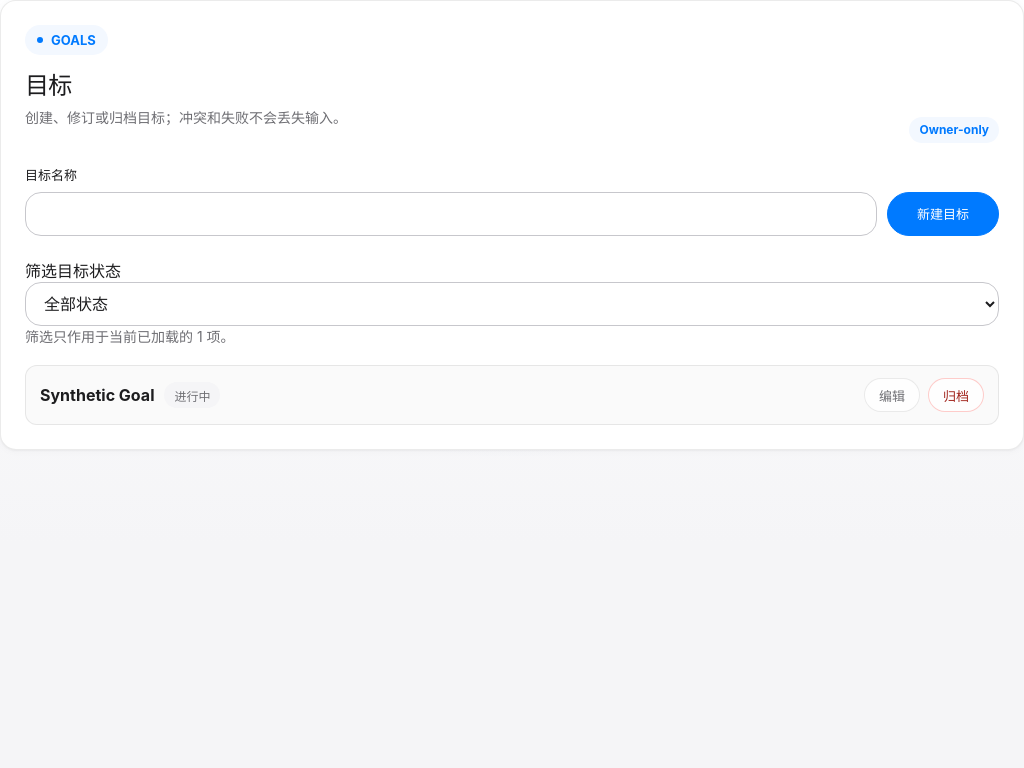
Test: Supabase Goals panel › retains edited input when a revision conflict occurs
Expected: the text "Synthetic Goal" is shown, [40,385,154,405]
Click the button with aria-label "编辑 Synthetic Goal" at (892, 395), box [864,378,920,412]
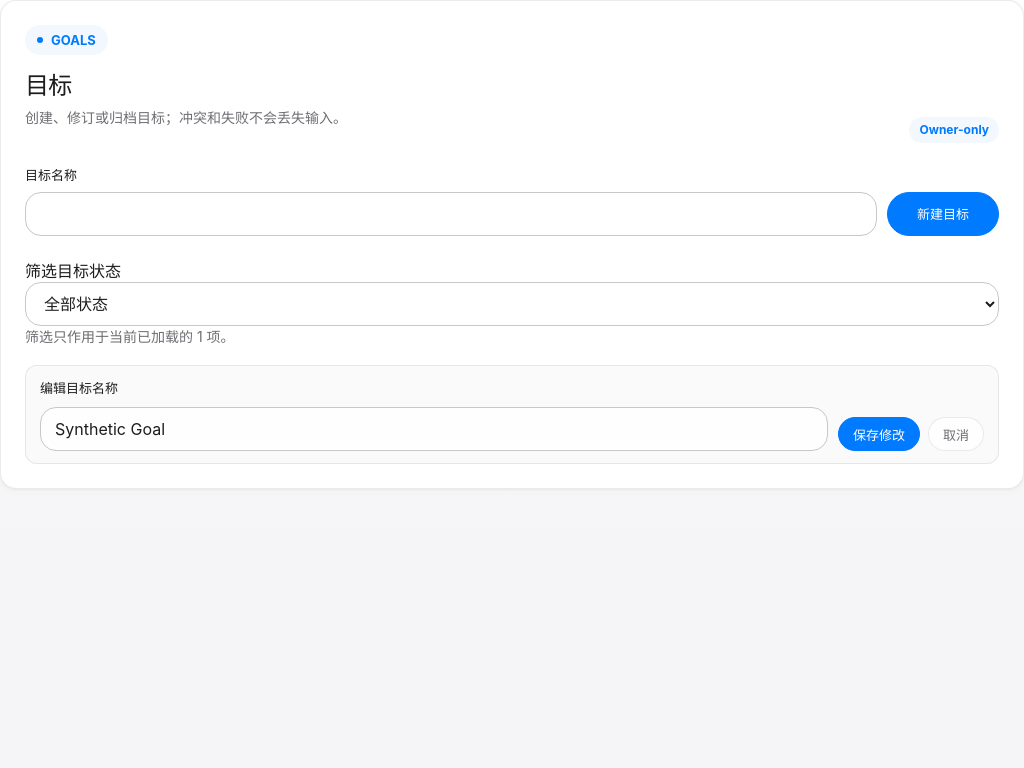
Replace the text in the field labelled "编辑目标名称" with "Conflicting Draft" at (434, 429), box [40,407,828,451]
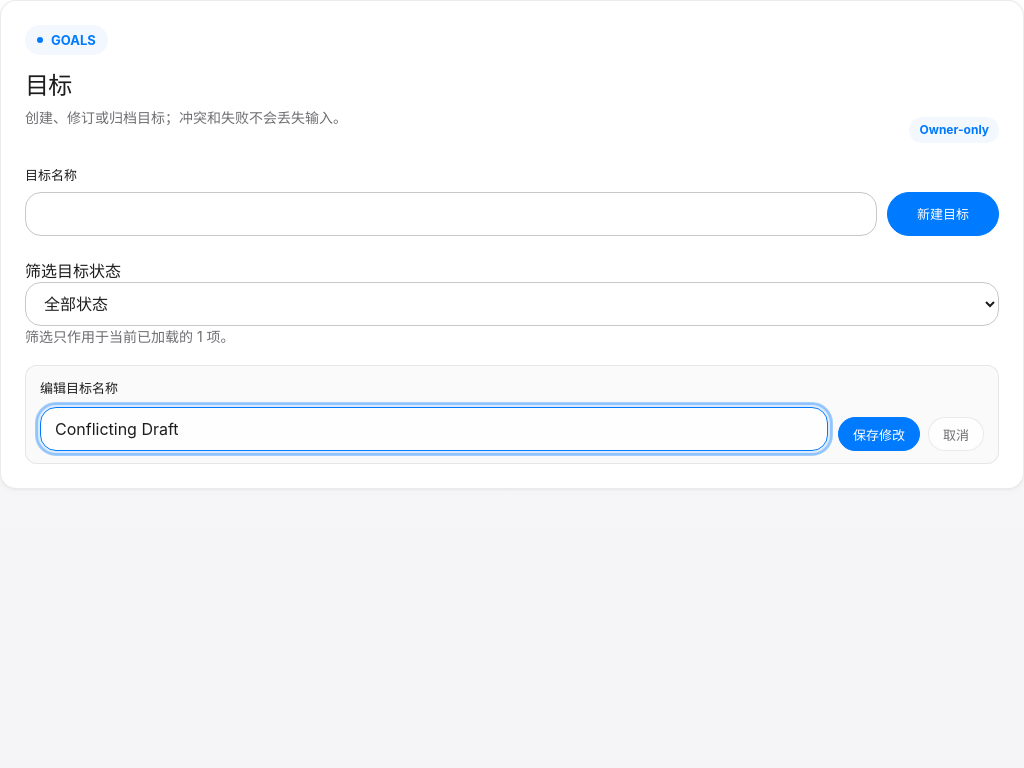
Click the button "保存修改" at (879, 434), box [838,417,920,451]
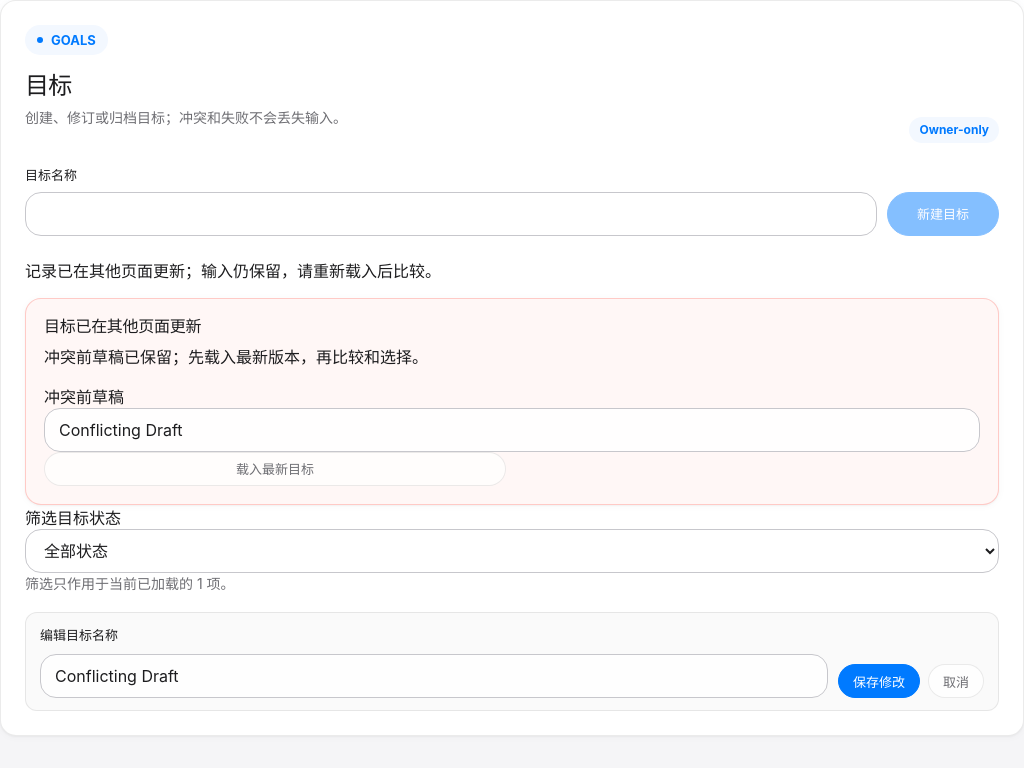
Expected: the field labelled "目标名称" is disabled, [25,192,877,236]
Expected: the message shows "记录已在其他页面更新", [25,261,441,281]
